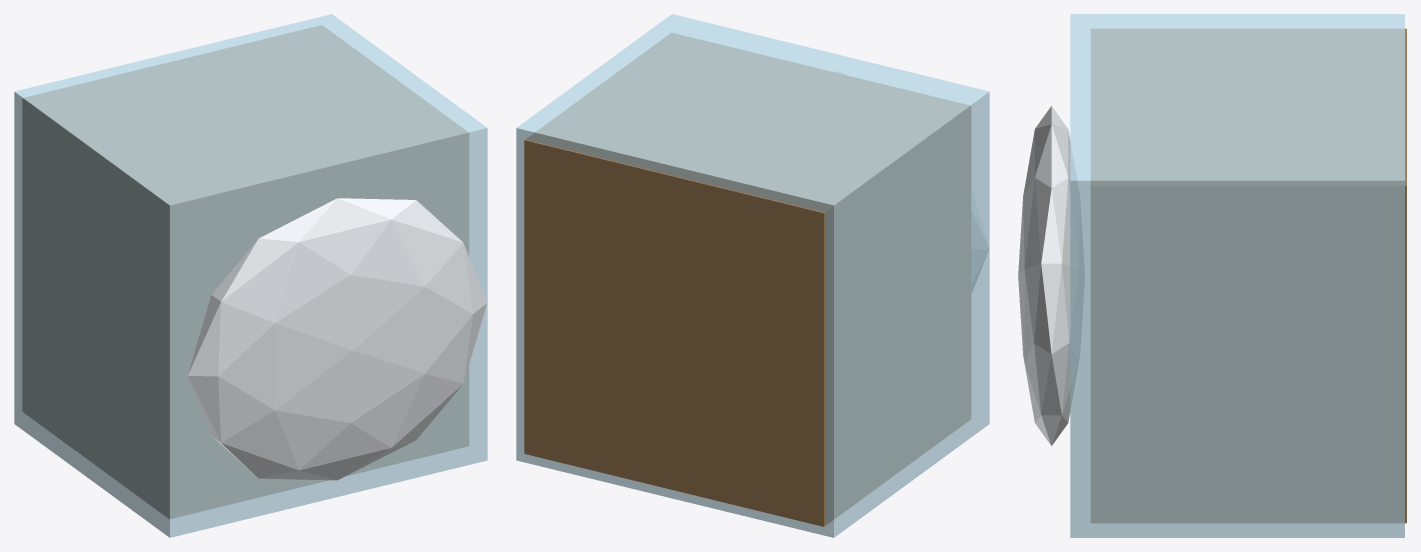
File: snow_frozen_crate.glb
The picture shows the model from 3 angles, left to right: view 1: azimuth 30°, elevation 25°; view 2: azimuth 150°, elevation 25°; view 3: azimuth 270°, elevation 25°; orthographic projection. The views are drawn at different scales.
Parts seen in each view (by area): view 1: ice_shell, crate, snow_top; view 2: crate, ice_shell, snow_top; view 3: ice_shell, crate, snow_top.
Part boxes in pixels (left/top/right/bottom): ice_shell: left=14, top=14, right=487, bottom=537; crate: left=22, top=25, right=468, bottom=518; snow_top: left=187, top=198, right=487, bottom=480; crate: left=524, top=33, right=970, bottom=526; ice_shell: left=516, top=14, right=989, bottom=537; snow_top: left=835, top=72, right=988, bottom=292; ice_shell: left=1070, top=14, right=1404, bottom=537; crate: left=1091, top=28, right=1406, bottom=523; snow_top: left=1018, top=106, right=1084, bottom=445.
Bounding box in the file's own units: 1.06 × 1.06 × 1.04.
